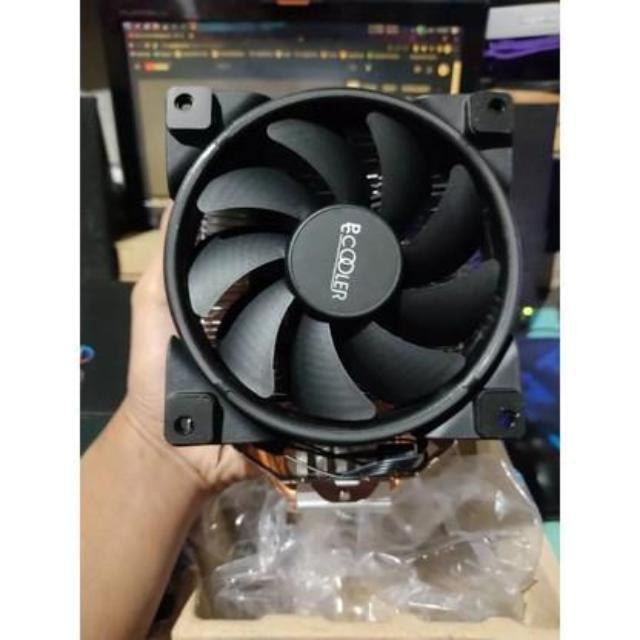CPU_Fan: (150, 76, 528, 504)
